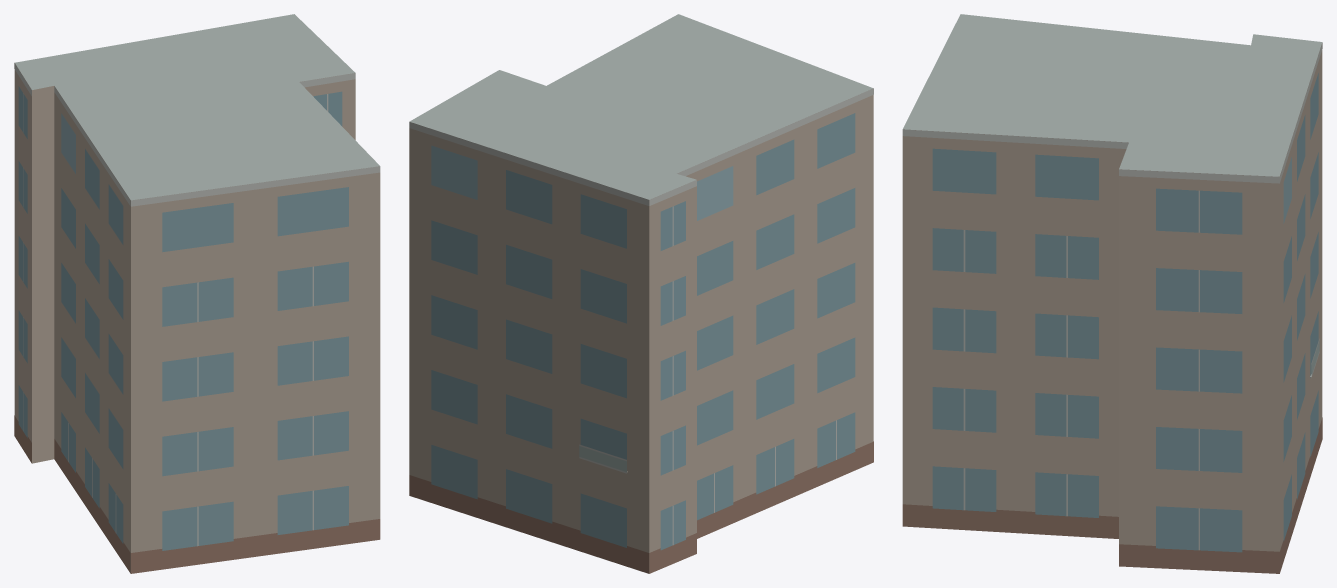
The model's file is survey-upis-32987028.glb.
3 views of the same model, side by side, from view 1: azimuth 30°, elevation 25°; view 2: azimuth 150°, elevation 25°; view 3: azimuth 270°, elevation 25° (orthographic). The views are drawn at different scales.
Visible parts, largest first — view 1: survey-upis-32987028.tmp; view 2: survey-upis-32987028.tmp; view 3: survey-upis-32987028.tmp.
Part boxes in pixels (x1,y1,x2,y2): survey-upis-32987028.tmp: [14, 14, 380, 573]; survey-upis-32987028.tmp: [409, 14, 873, 573]; survey-upis-32987028.tmp: [902, 14, 1322, 573].
Bounding box in the file's own units: 12.62 × 14.35 × 13.76.
